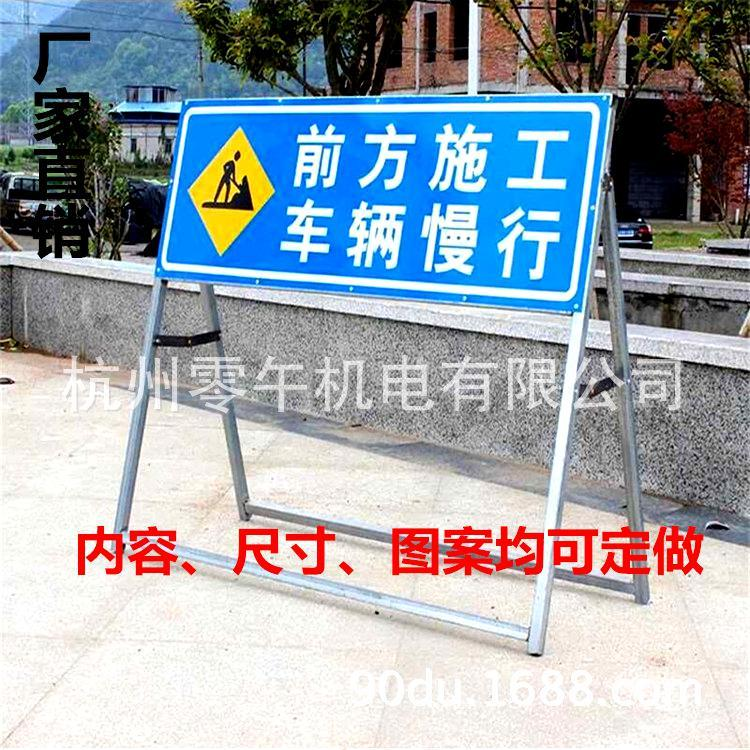sign: (169, 102, 611, 310)
